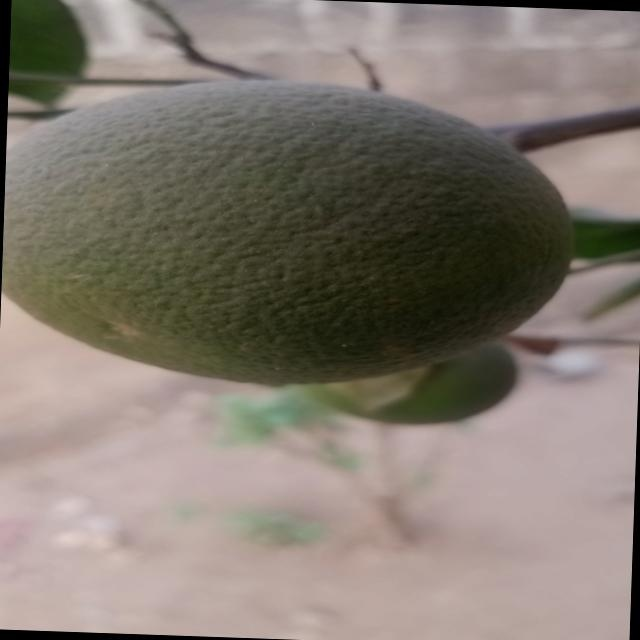agrume: (0, 62, 576, 398)
